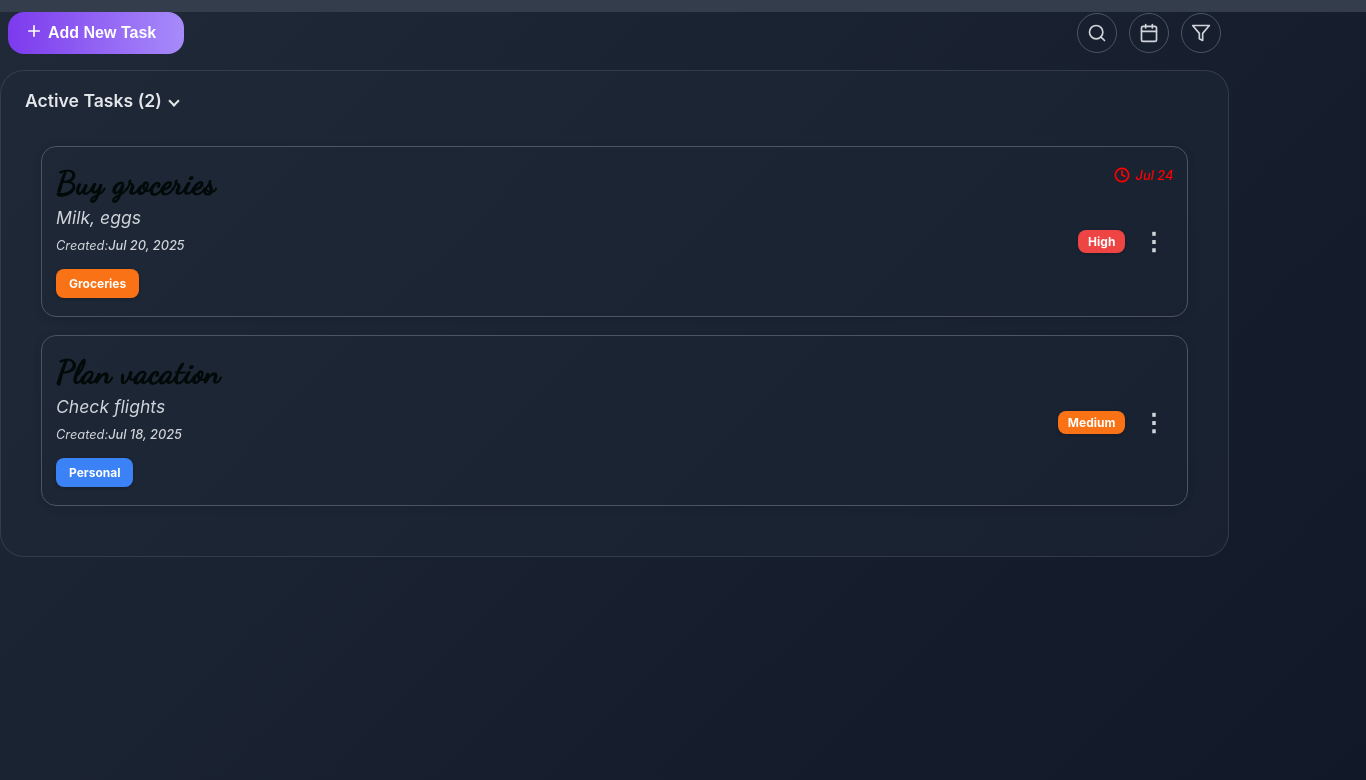
Test: TodoList › toggles search input visibility and shows input
Click the 2nd button: (1097,33) [1077,13,1117,53]
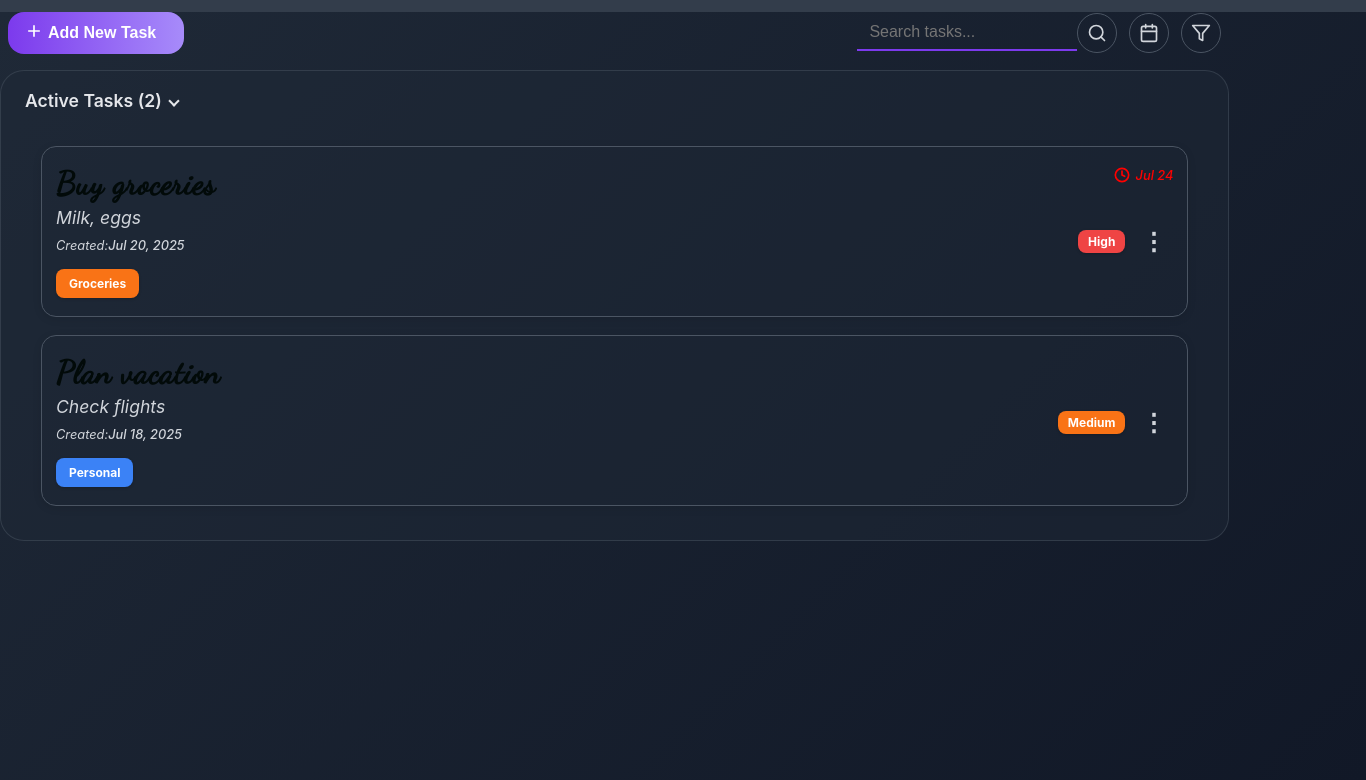
Now the field with placeholder "Search tasks..." is shown, box [857,15,1077,51]
